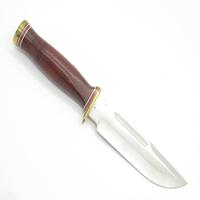knife: (10, 16, 189, 194)
